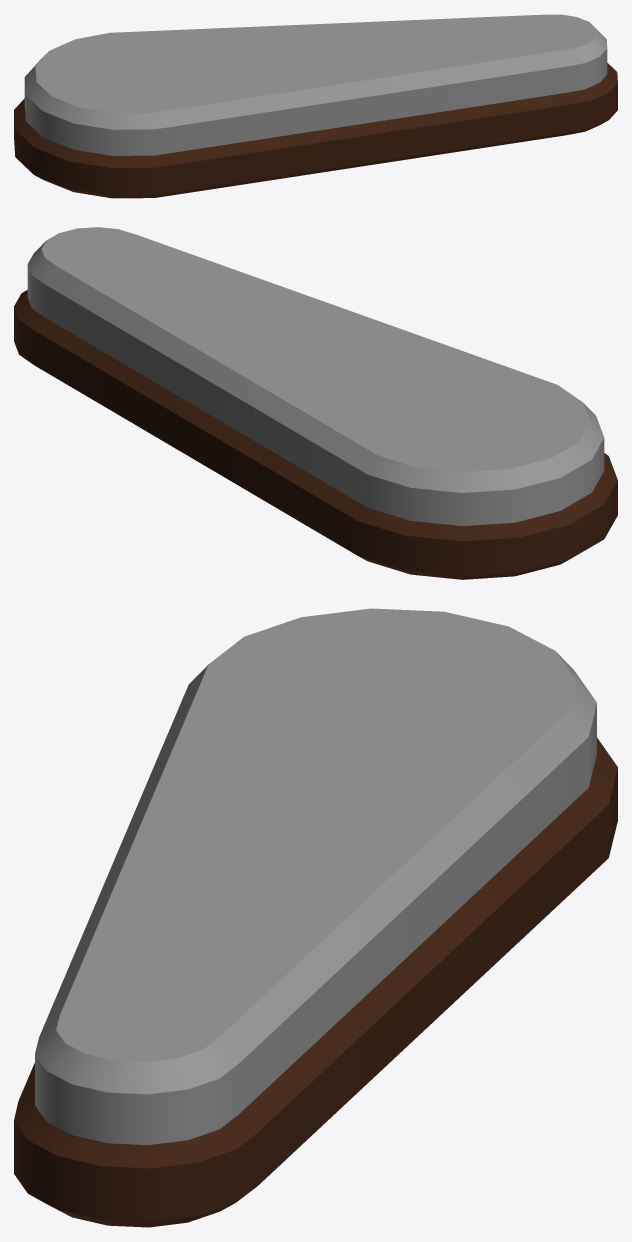
The model's file is Flipper.FBX.
The picture shows the model from 3 angles, top to bottom: view 1: azimuth 30°, elevation 25°; view 2: azimuth 150°, elevation 25°; view 3: azimuth 270°, elevation 25°; orthographic projection. The views are drawn at different scales.
Visible parts, largest first — view 1: Flipper; view 2: Flipper; view 3: Flipper.
Boxes of the visible parts, bbox=[...] form: Flipper: bbox=[14, 14, 617, 198]; Flipper: bbox=[14, 227, 617, 579]; Flipper: bbox=[14, 608, 617, 1227].
Size of the model in its own units: 5.53 by 0.8243 by 2.88.
